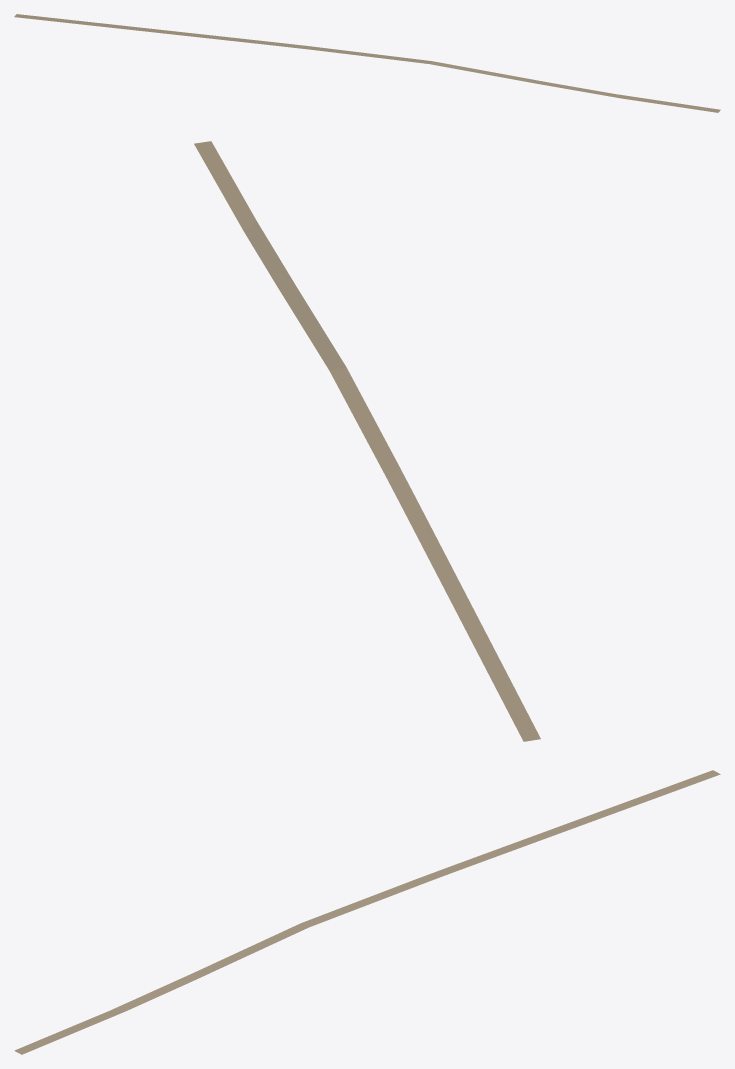
File: farm_-3_16_track.glb
The picture shows the model from 3 angles, top to bottom: view 1: azimuth 30°, elevation 25°; view 2: azimuth 150°, elevation 25°; view 3: azimuth 270°, elevation 25°; orthographic projection. The views are drawn at different scales.
Parts seen in each view (by area): view 1: geometry_0; view 2: geometry_0; view 3: geometry_0.
Part boxes in pixels (<box>): geometry_0: <box>14,14,720,112</box>; geometry_0: <box>194,141,540,741</box>; geometry_0: <box>14,770,720,1054</box>.
Bounding box in the file's own units: 186 × 4.75 × 199.
